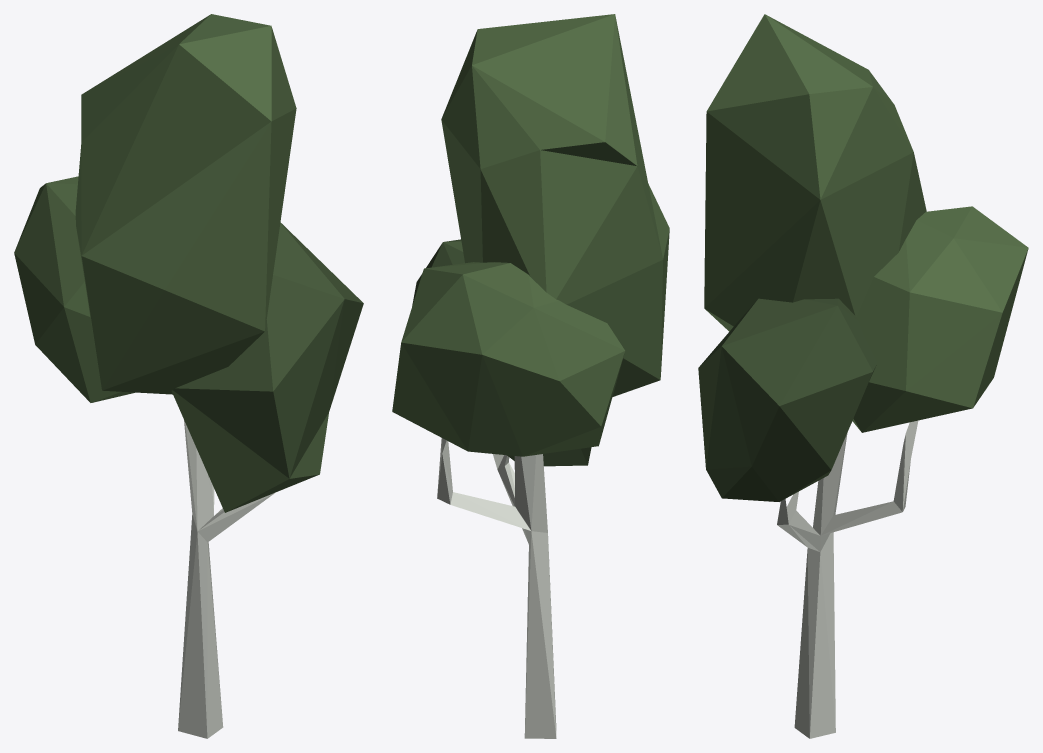
Rendered from BirchTree_3.lod3.glb.
3 views of the same model, side by side, from view 1: azimuth 30°, elevation 25°; view 2: azimuth 150°, elevation 25°; view 3: azimuth 270°, elevation 25° (orthographic). The views are drawn at different scales.
Parts seen in each view (by area): view 1: BirchTree_3; view 2: BirchTree_3; view 3: BirchTree_3.
Part boxes in pixels (x1,y1,x2,y2): BirchTree_3: (14,14,363,738); BirchTree_3: (392,14,669,738); BirchTree_3: (698,14,1028,738).
Size of the model in its own units: 1.58 by 4.08 by 1.76.
